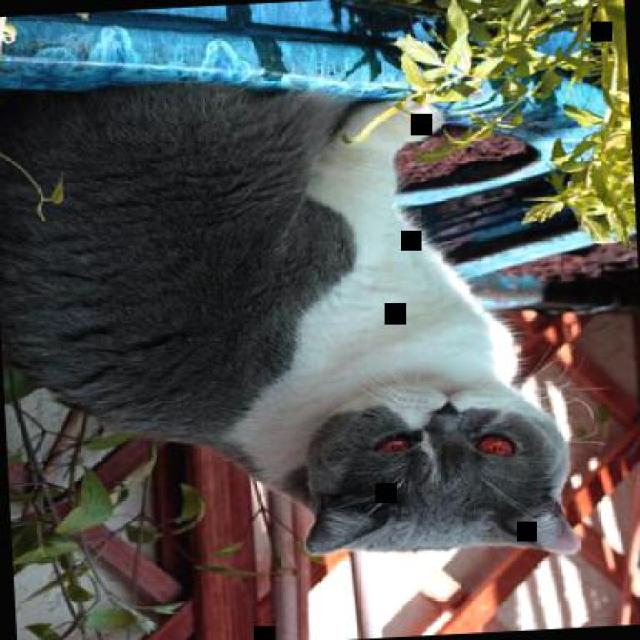cat: (0, 62, 583, 586)
